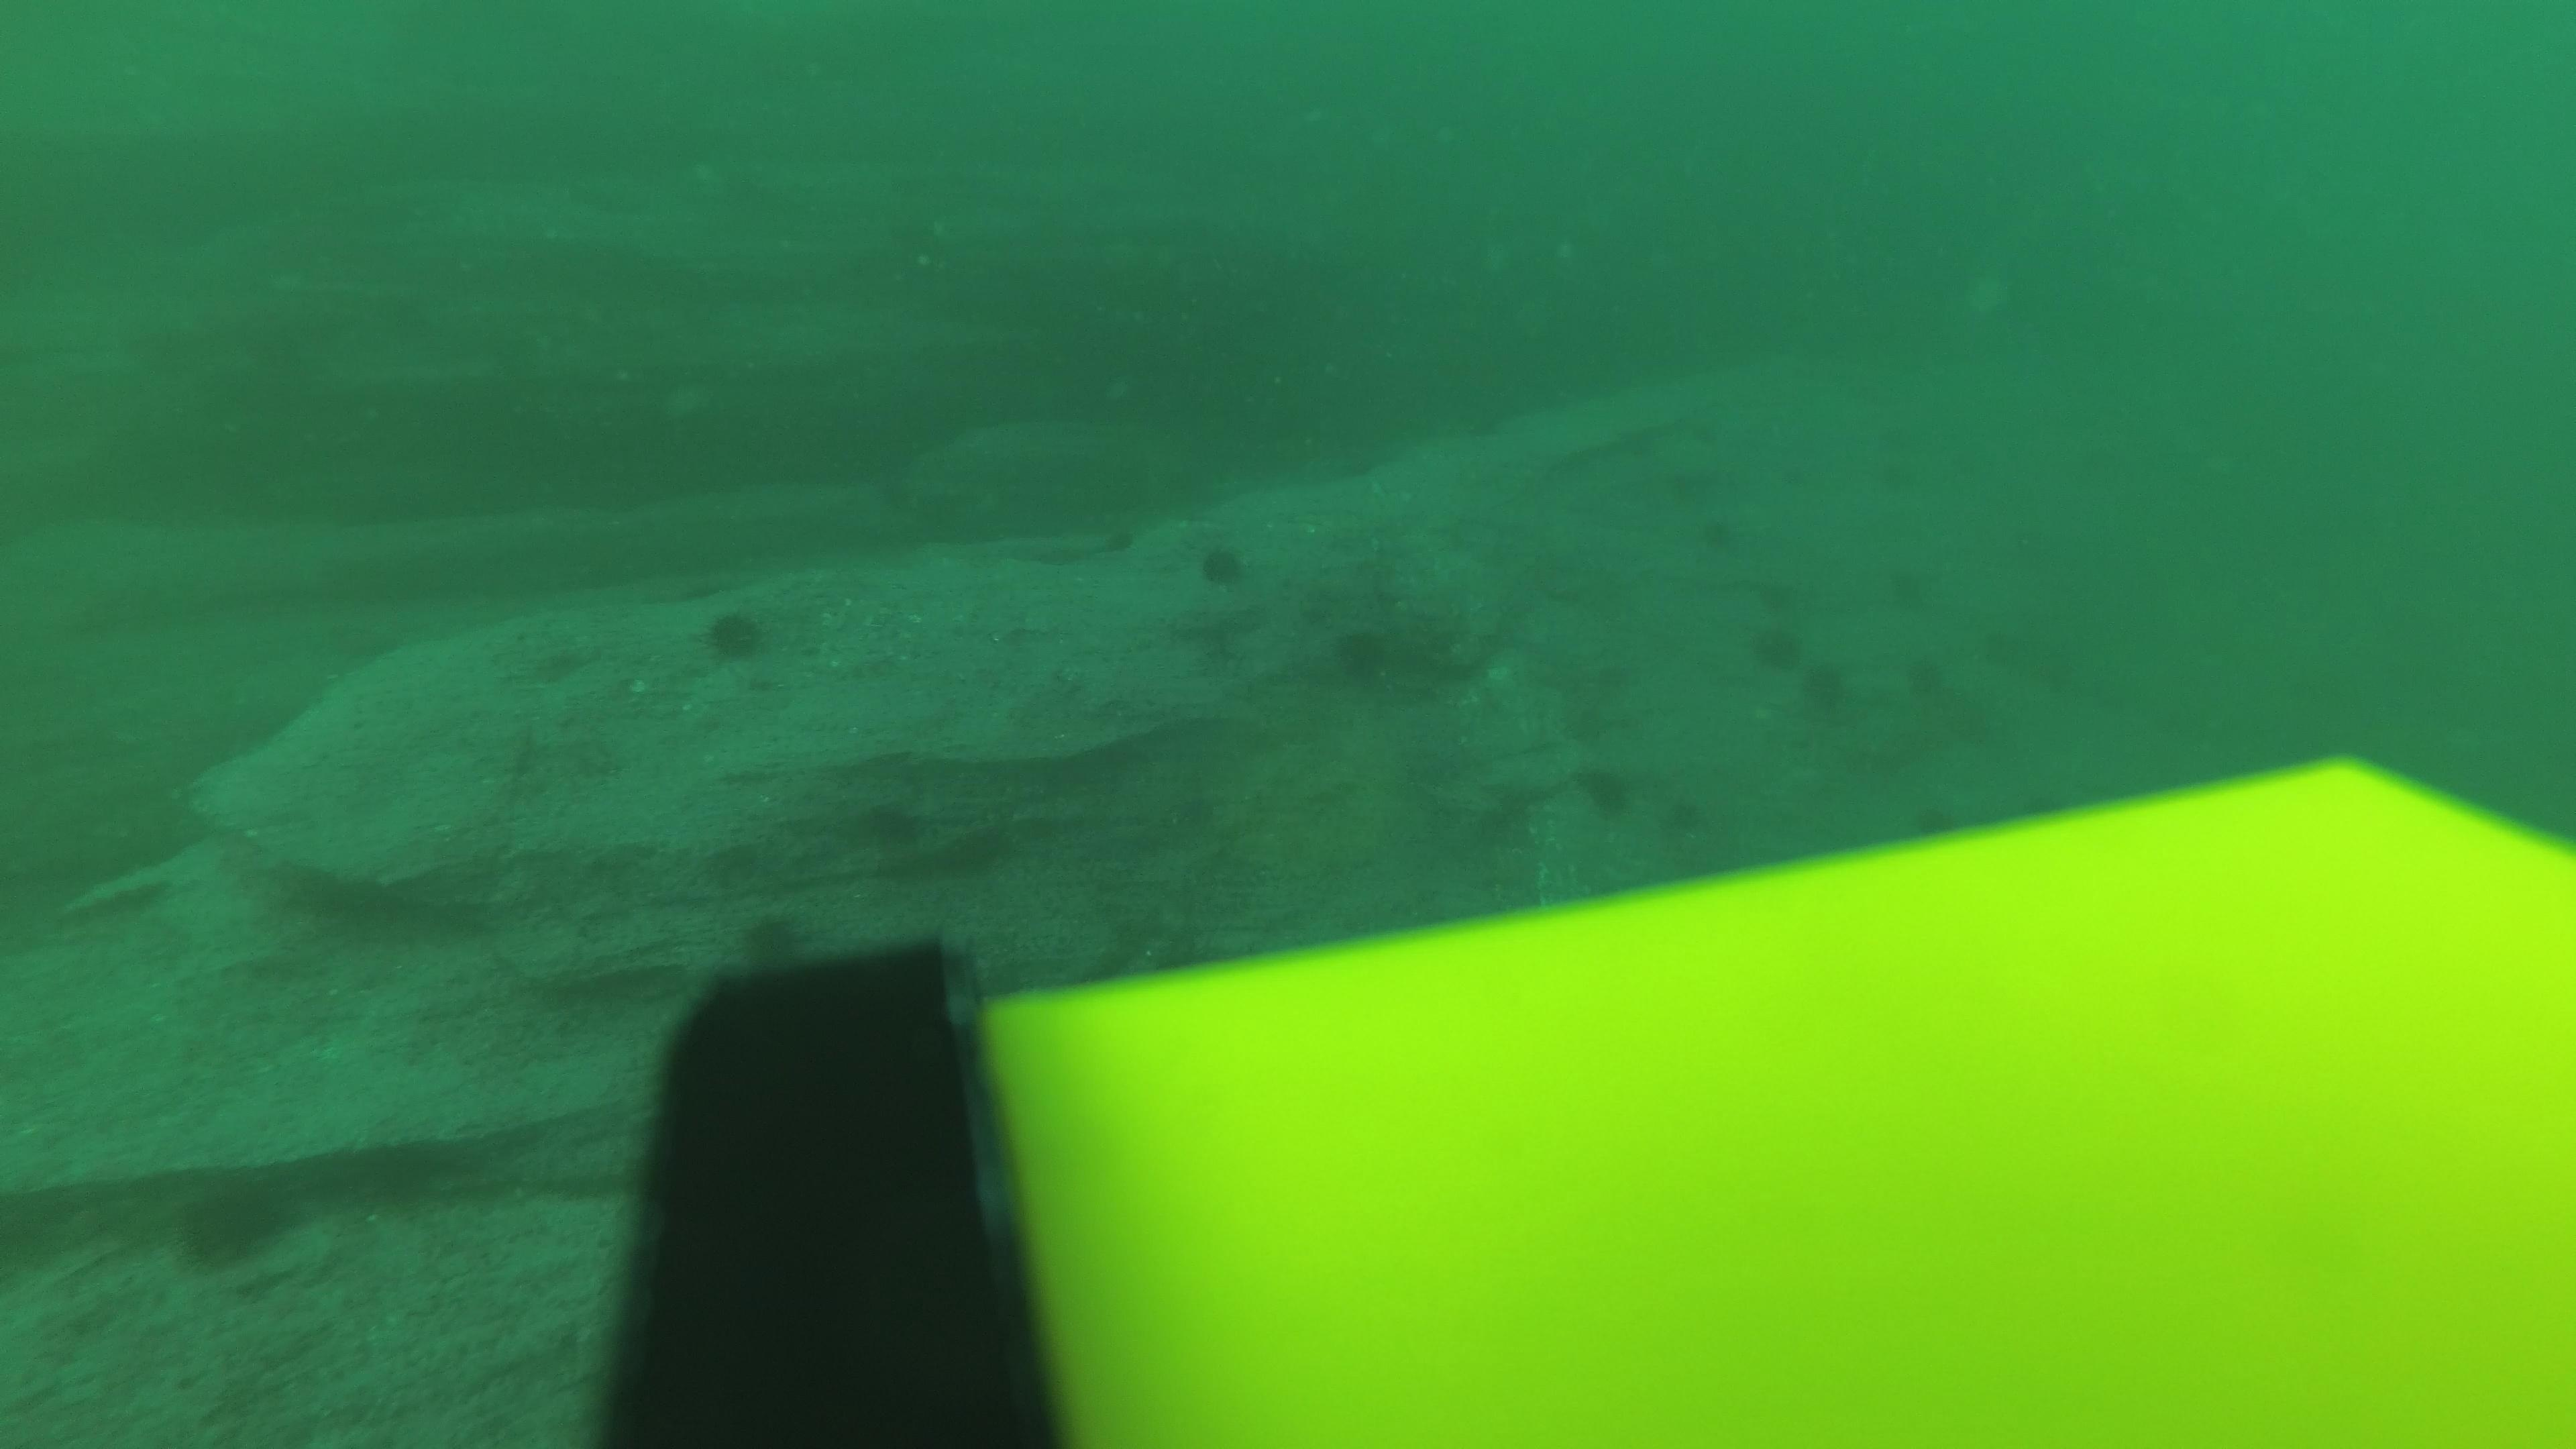echinus: (170, 1171, 299, 1274), (1327, 610, 1444, 695), (694, 598, 778, 669), (731, 908, 810, 971), (1571, 757, 1640, 824), (856, 794, 931, 855), (1794, 656, 1856, 722), (1746, 617, 1808, 676), (1192, 534, 1253, 591), (1904, 801, 1960, 839), (1879, 464, 1925, 502), (1661, 801, 1707, 839), (1898, 658, 1944, 695), (1976, 630, 2022, 667), (1884, 568, 1930, 605), (1695, 517, 1741, 554), (1874, 425, 1920, 462), (1100, 525, 1141, 563), (1686, 419, 1723, 446), (1782, 467, 1821, 492)
